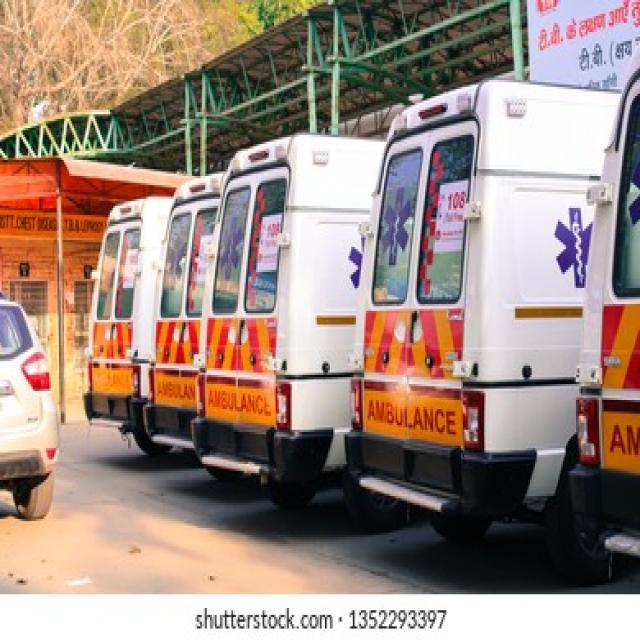ambulance: (351, 82, 619, 530), (192, 135, 370, 488), (577, 39, 640, 575), (148, 174, 202, 446), (86, 196, 149, 428)
